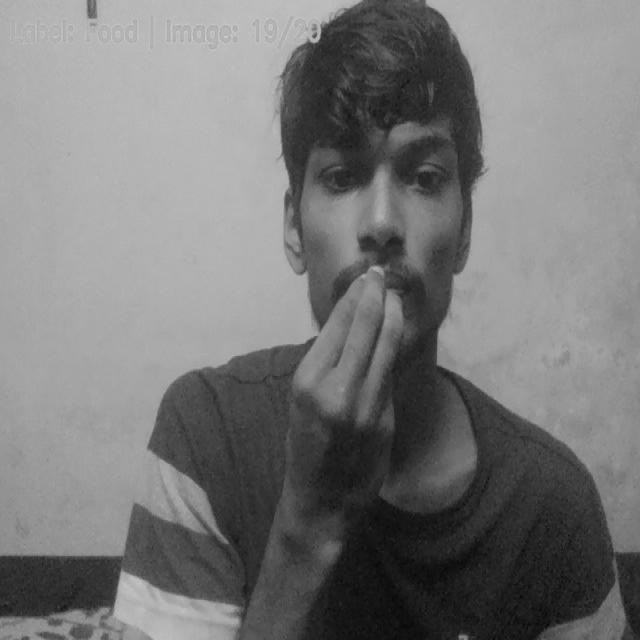Food: (288, 265, 416, 512)
